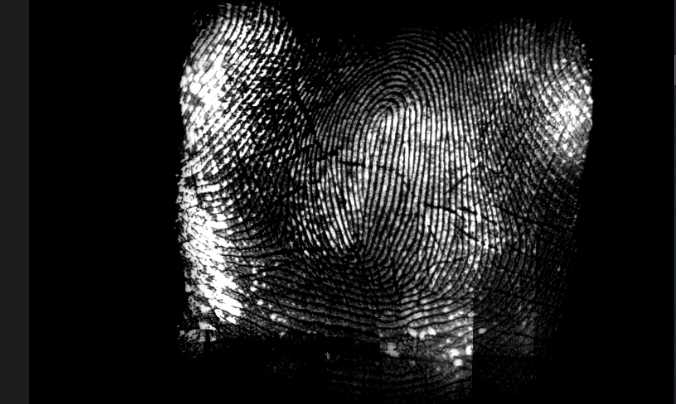deltas: (258, 213, 312, 266)
nucleo: (354, 90, 413, 145)
